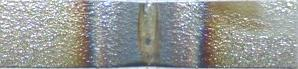soldas: (80, 0, 212, 68)
